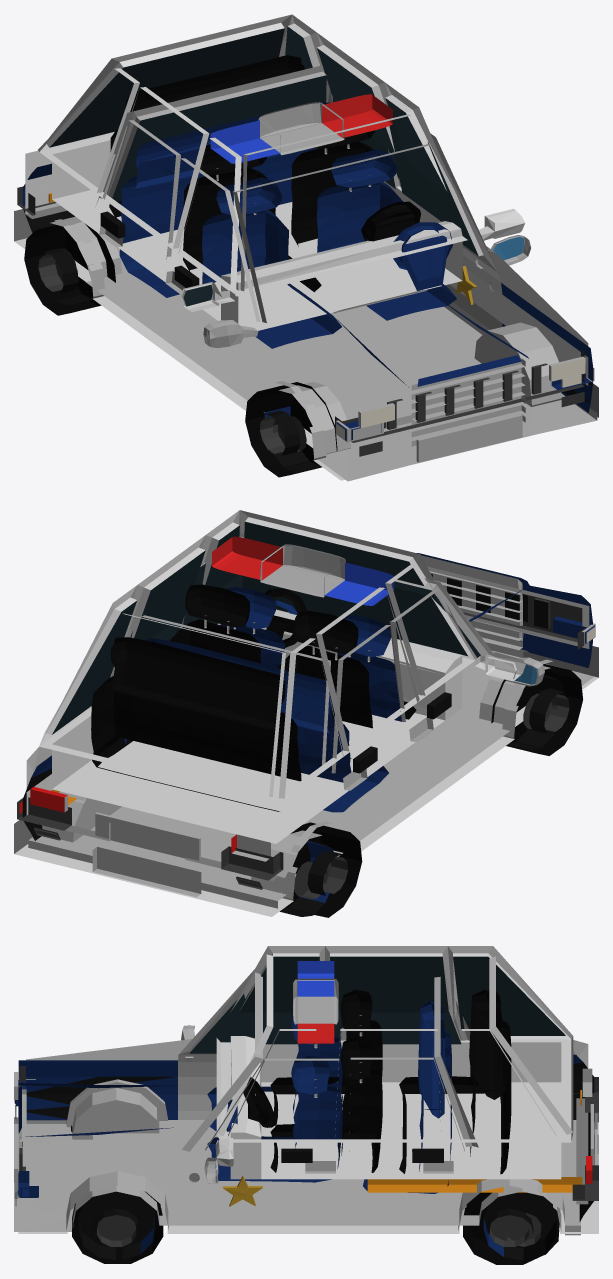
Rendered from auta-cars.glb.
3 views of the same model, one above another, from view 1: azimuth 30°, elevation 25°; view 2: azimuth 150°, elevation 25°; view 3: azimuth 270°, elevation 25° (orthographic). The views are drawn at different scales.
Parts seen in each view (by area): view 1: police_rest, sedan_rest, sedan_body, sedan_roof, police_red, police_blue, sedan_lights; view 2: sedan_rest, police_rest, sedan_body, sedan_roof, police_red, police_blue, sedan_lights; view 3: police_rest, sedan_rest, sedan_body, sedan_roof, police_blue, police_red.
Boxes of the visible parts, box(x1,y1,x2,y2) form: police_rest: box(17, 65, 597, 481); sedan_rest: box(14, 26, 598, 477); sedan_body: box(14, 140, 598, 480); sedan_roof: box(38, 14, 524, 311); police_red: box(322, 94, 392, 137); police_blue: box(210, 120, 279, 163); sedan_lights: box(361, 358, 585, 428); sedan_rest: box(14, 521, 598, 917); police_rest: box(17, 533, 595, 916); sedan_body: box(14, 566, 598, 916); sedan_roof: box(39, 510, 525, 804); police_red: box(212, 536, 282, 579); police_blue: box(325, 562, 394, 605); sedan_lights: box(30, 787, 236, 853); police_rest: box(14, 969, 598, 1260); sedan_rest: box(14, 956, 598, 1264); sedan_body: box(18, 1039, 598, 1233); sedan_roof: box(215, 946, 573, 1166); police_blue: box(297, 961, 334, 996); police_red: box(297, 1023, 334, 1043).
Bounding box in the file's own units: 2.61 × 1.81 × 4.4.
